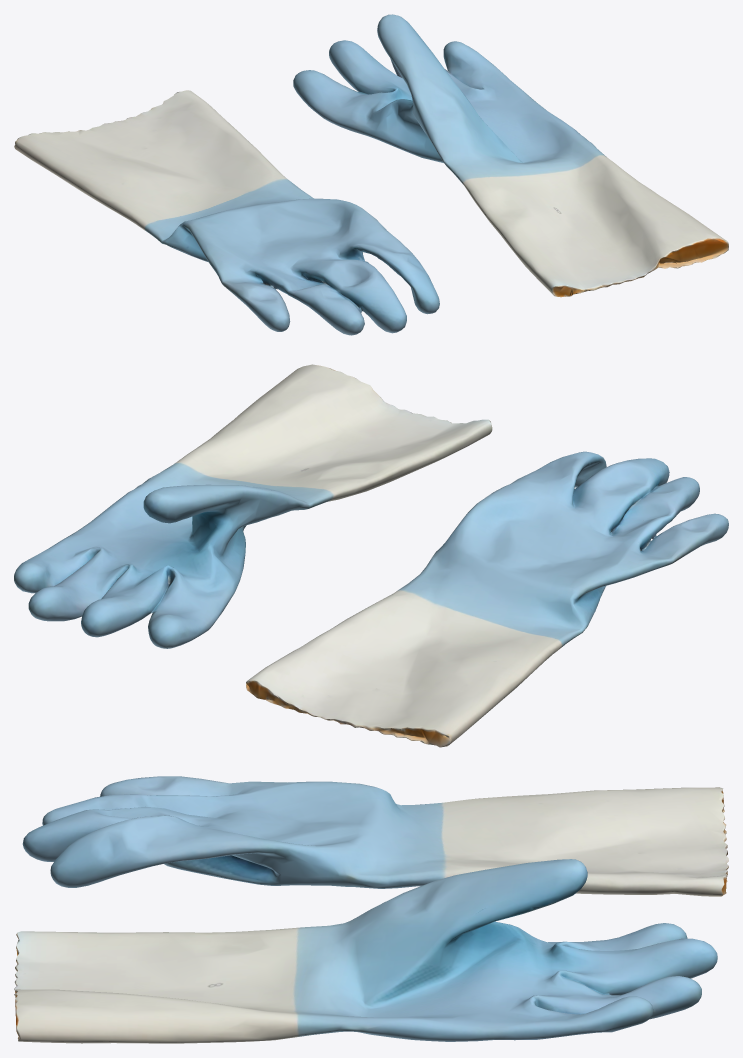
File: Clorox_Premium_Choice_Gloves_SM_1_pair.glb
3 renders of one model, top to bottom at view 1: azimuth 30°, elevation 25°; view 2: azimuth 150°, elevation 25°; view 3: azimuth 270°, elevation 25°, orthographic. The views are drawn at different scales.
Parts seen in each view (by area): view 1: Clorox_Premium_Choice_Gloves_SM_1_pair; view 2: Clorox_Premium_Choice_Gloves_SM_1_pair; view 3: Clorox_Premium_Choice_Gloves_SM_1_pair.
Part boxes in pixels (x1,y1,x2,y2): Clorox_Premium_Choice_Gloves_SM_1_pair: (14,14,728,335); Clorox_Premium_Choice_Gloves_SM_1_pair: (14,364,728,747); Clorox_Premium_Choice_Gloves_SM_1_pair: (14,776,728,1043).
Size of the model in its own units: 0.2741 by 0.0644 by 0.3263.
1 material, 1 textured.
